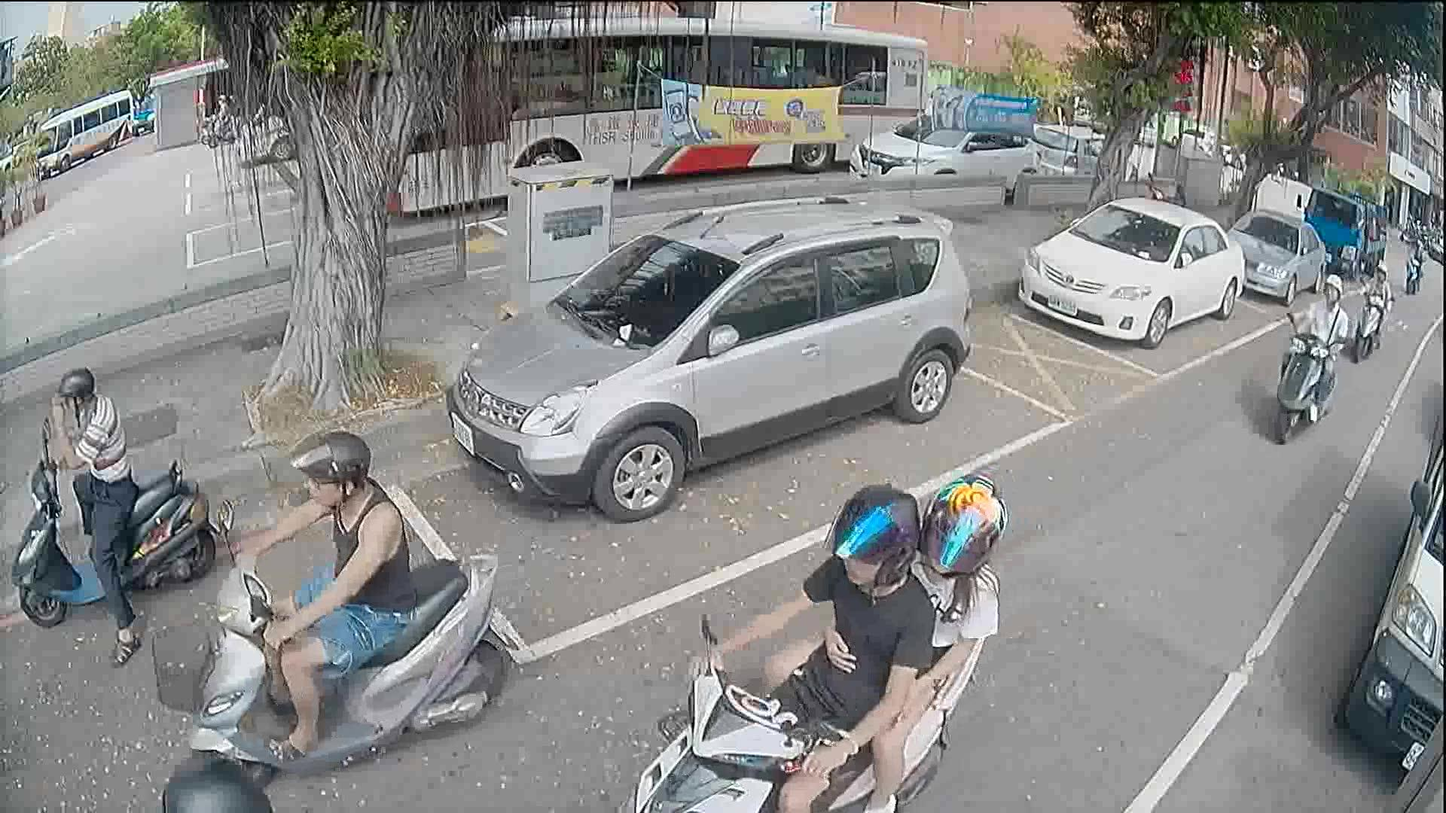person: (683, 478, 945, 812), (761, 477, 1014, 812), (226, 423, 419, 772), (25, 374, 157, 659), (1278, 275, 1347, 421), (157, 749, 283, 812), (1365, 266, 1392, 340), (208, 94, 230, 134), (1409, 235, 1421, 283)
